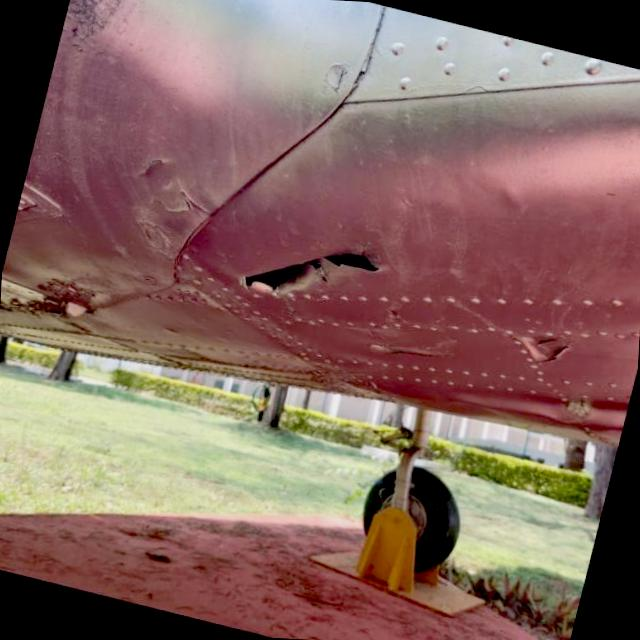dent: (488, 174, 540, 226)
